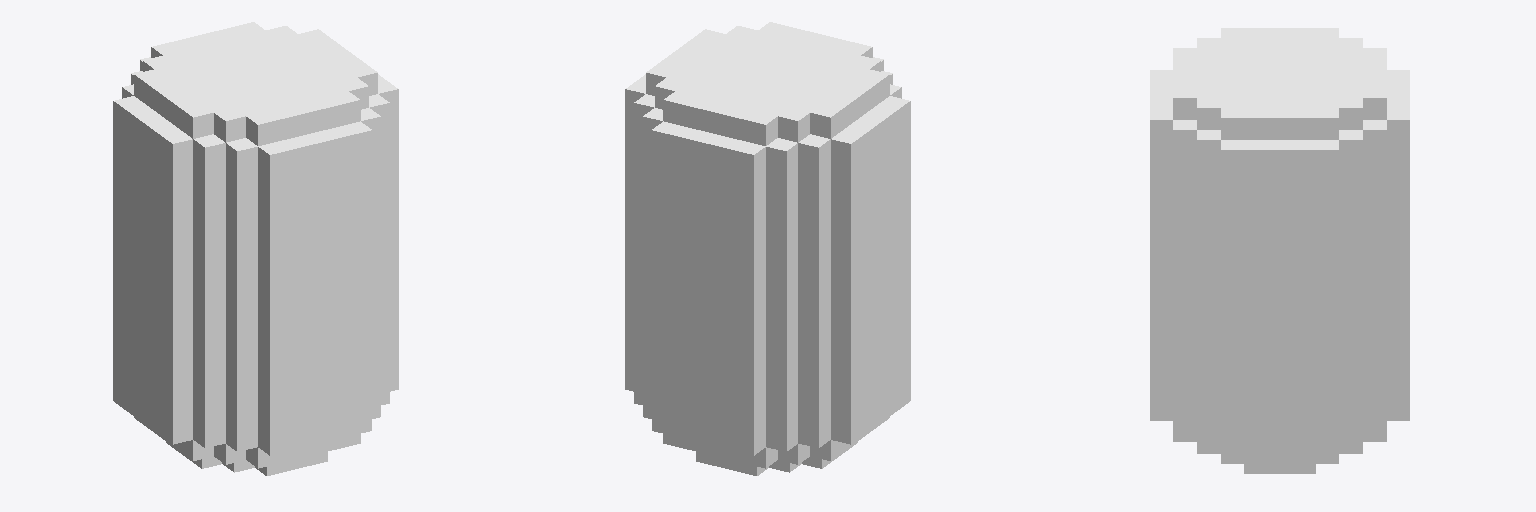
File: BarrelProp.obj
The picture shows the model from 3 angles: view 1: azimuth 30°, elevation 25°; view 2: azimuth 150°, elevation 25°; view 3: azimuth 270°, elevation 25°; orthographic projection.
Parts seen in each view (by area): view 1: object 1; view 2: object 1; view 3: object 1.
Part boxes in pixels (x1,y1,x2,y2): object 1: (113, 22, 398, 475); object 1: (625, 22, 910, 475); object 1: (1150, 28, 1409, 473).
Size of the model in its own units: 1.1 by 1.7 by 1.1.